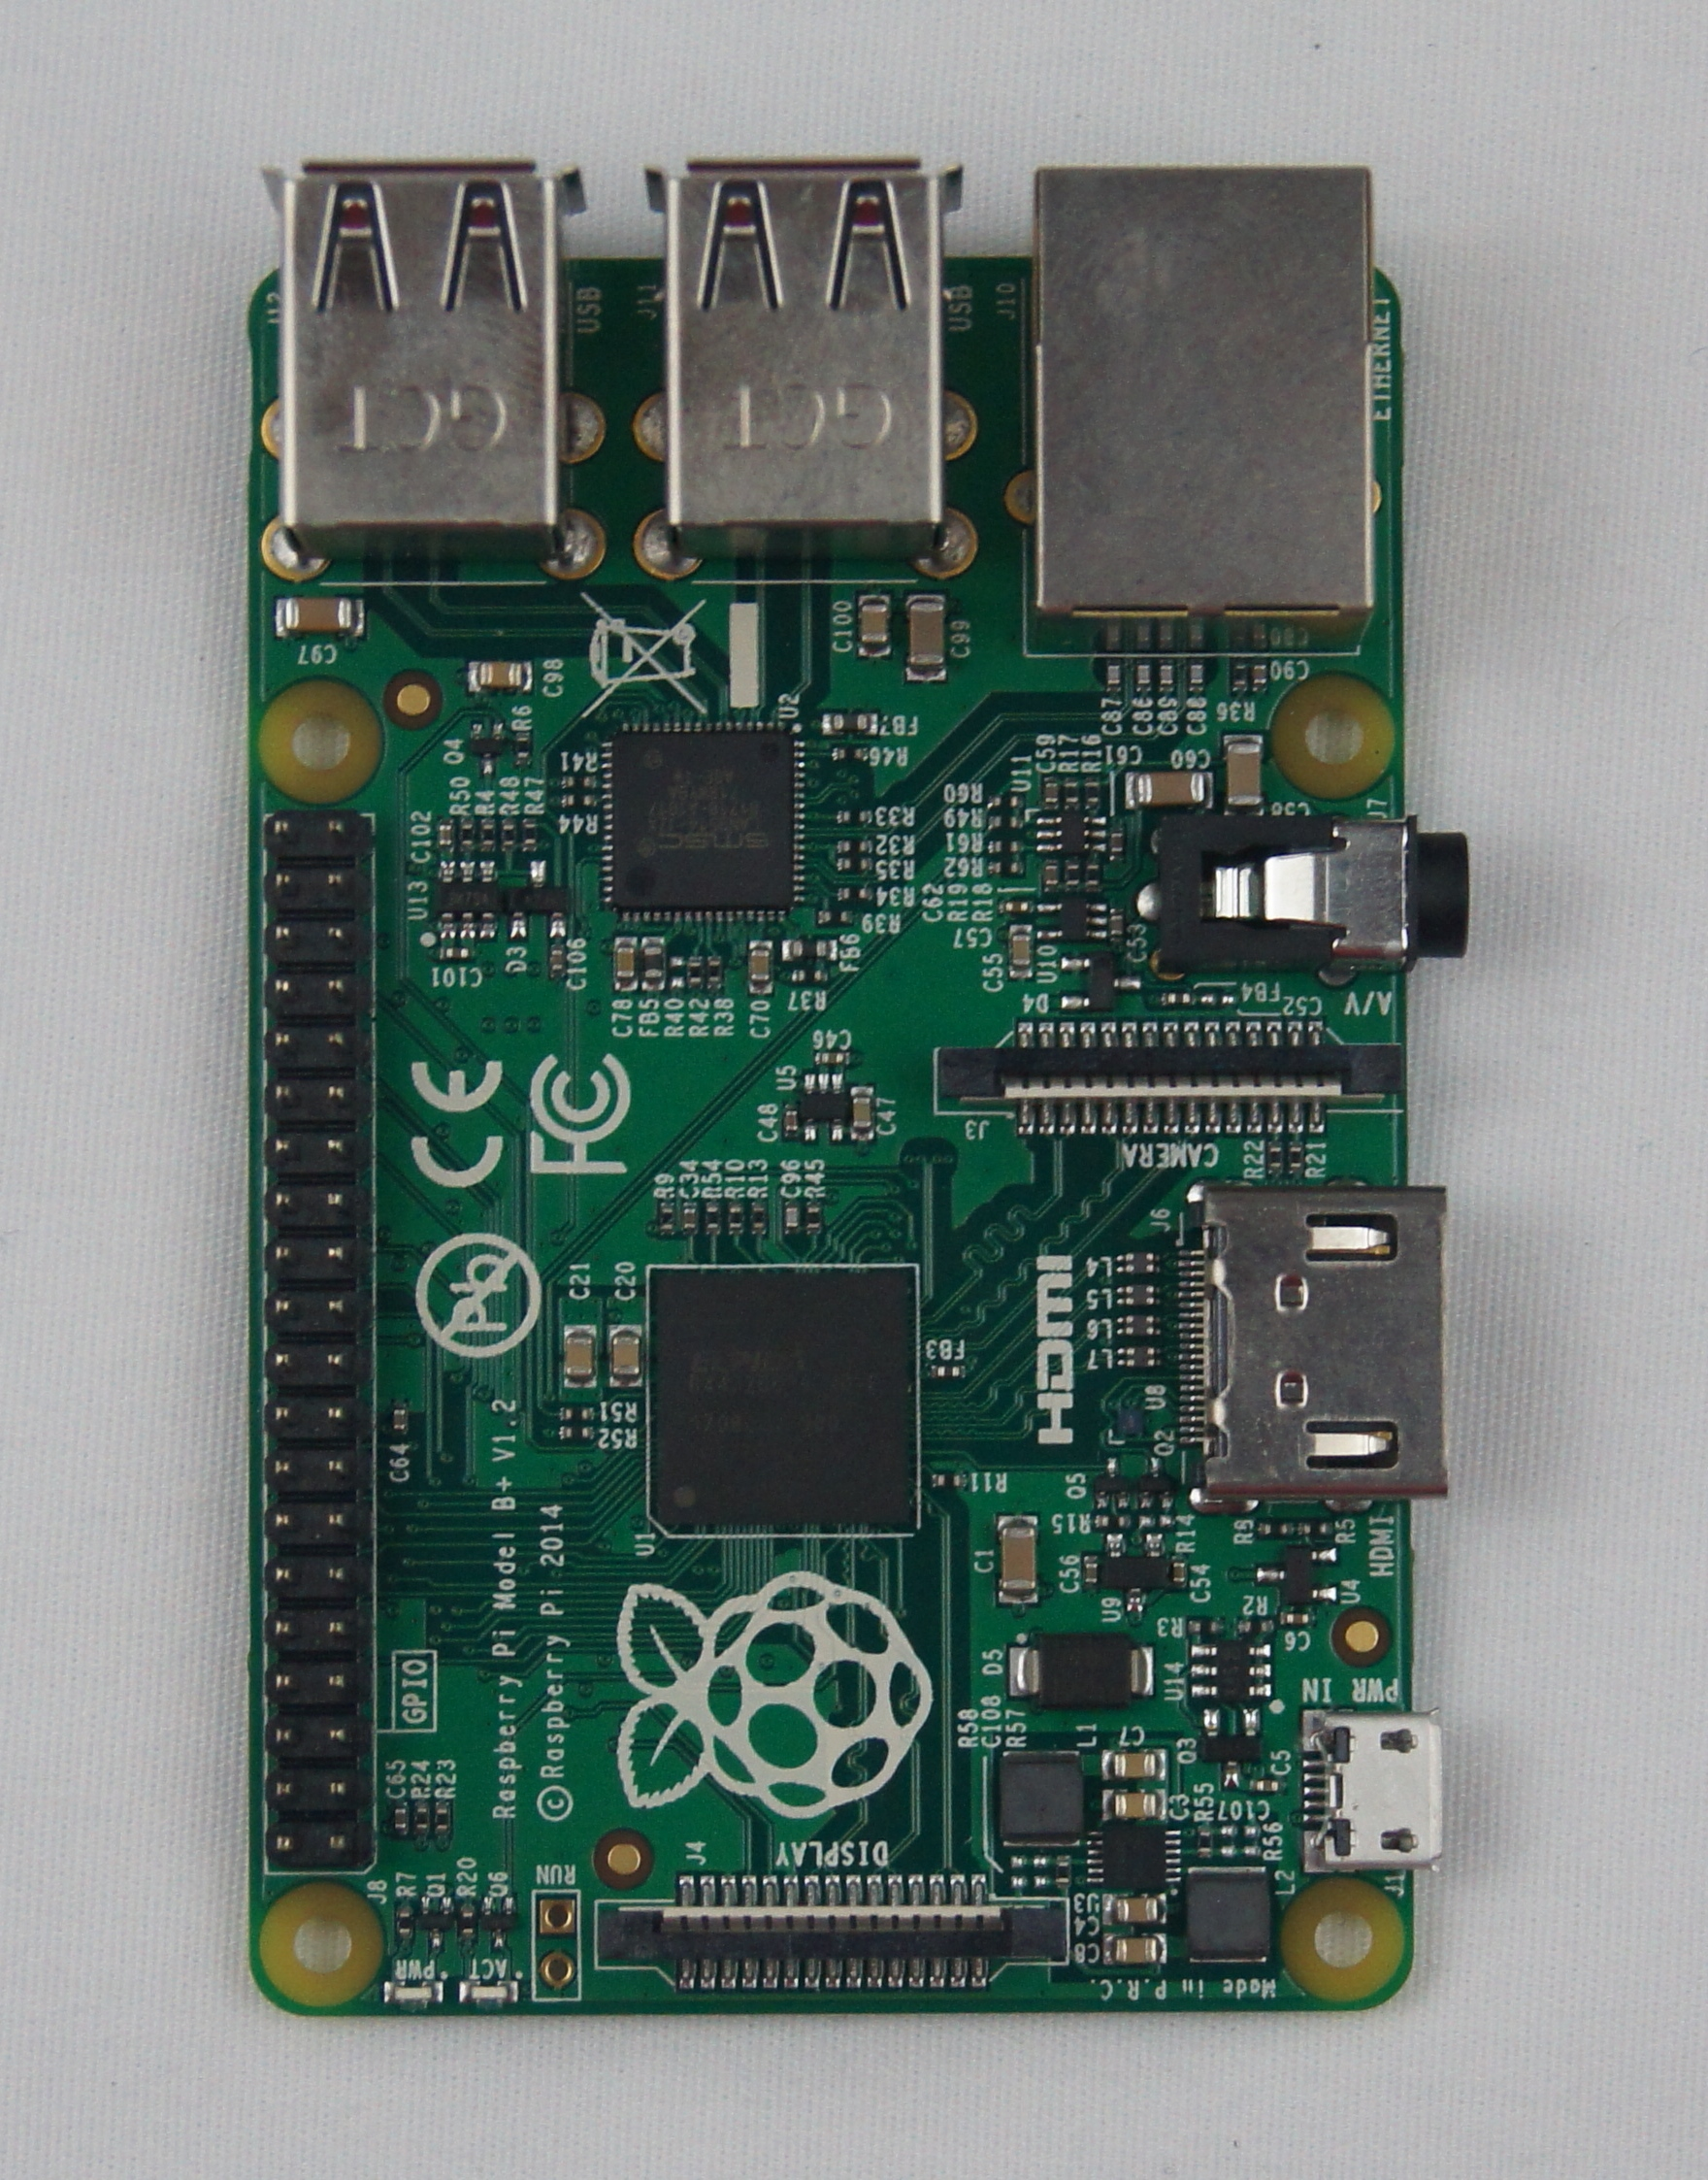resistor: (812, 910, 853, 927), (1297, 1518, 1333, 1538), (1094, 1513, 1133, 1531), (929, 1470, 968, 1488), (835, 855, 873, 872), (1258, 1518, 1292, 1538), (520, 817, 540, 851), (835, 887, 876, 902), (559, 1423, 595, 1440), (703, 1200, 720, 1233), (837, 839, 874, 855), (559, 773, 596, 789), (559, 793, 596, 809), (1230, 660, 1248, 692), (1188, 1619, 1221, 1635), (988, 839, 1021, 855), (478, 817, 496, 848), (1237, 1619, 1274, 1633), (989, 814, 1021, 830), (515, 733, 531, 764), (750, 1201, 766, 1233), (988, 862, 1023, 876), (988, 793, 1023, 807), (1083, 862, 1101, 890), (559, 1407, 595, 1421), (1196, 1826, 1212, 1856), (706, 957, 722, 987), (727, 1203, 743, 1233), (458, 1906, 474, 1936), (793, 968, 827, 982), (1269, 1141, 1283, 1173), (1064, 860, 1080, 888), (660, 1203, 674, 1235), (1163, 991, 1191, 1007), (832, 747, 867, 759), (1057, 1856, 1071, 1886), (501, 817, 515, 848), (396, 1906, 411, 1936), (1083, 780, 1099, 807), (412, 1801, 428, 1828), (1066, 777, 1080, 805), (460, 819, 474, 848), (689, 959, 703, 987), (805, 1203, 819, 1232), (434, 1803, 448, 1831), (1290, 1141, 1303, 1171)
